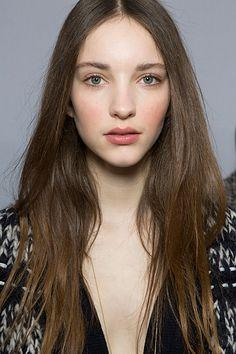no_mask: (63, 12, 179, 167)
